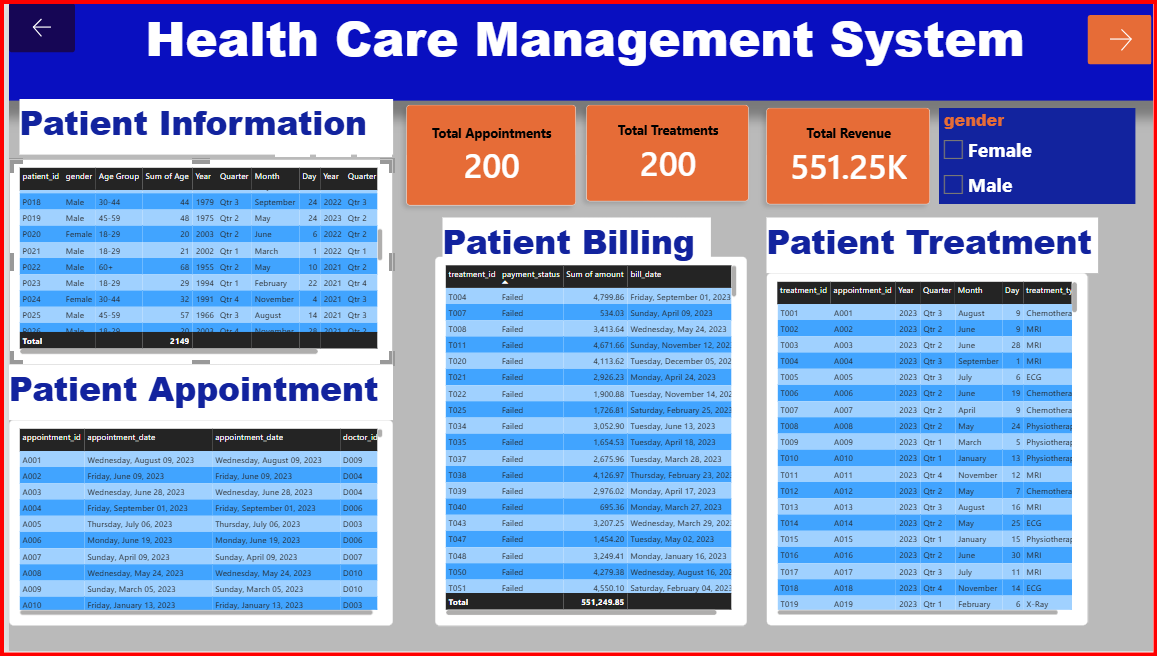

The page's visual inventory and layout, read from the dashboard file:
{"tool":"powerbi","page":{"name":"Patient Details","canvas":[1920,1080],"ordinal":4},"visuals":[{"type":"textbox","title":" Health Care Management System","box":[0,0,1920,162.5],"z":0},{"type":"actionButton","box":[0,0,110,82.5],"z":1000},{"type":"tableEx","fields":{"Values":["cleaned_patients.patient_id","cleaned_patients.gender","cleaned_patients.Age Group","Sum(cleaned_patients.Age)","cleaned_patients.date_of_birth.Variation.Date Hierarchy.Year","cleaned_patients.date_of_birth.Variation.Date Hierarchy.Quarter","cleaned_patients.date_of_birth.Variation.Date Hierarchy.Month","cleaned_patients.date_of_birth.Variation.Date Hierarchy.Day","cleaned_patients.registration_date.Variation.Date Hierarchy.Year","cleaned_patients.registration_date.Variation.Date Hierarchy.Quarter","cleaned_patients.registration_date.Variation.Date Hierarchy.Month","cleaned_patients.registration_date.Variation.Date Hierarchy.Day"]},"box":[0,260,640,342.5],"z":2000},{"type":"cardVisual","fields":{"Data":["Descriptive Analys.Total Revenue"]},"box":[1247.5,160,302.5,190],"z":3000},{"type":"cardVisual","fields":{"Data":["Descriptive Analys.Total Treatments"]},"box":[947.5,155,300,190],"z":4000},{"type":"cardVisual","fields":{"Data":["Descriptive Analys.Total Appointments"]},"box":[647.5,155,312.5,197.5],"z":5000},{"type":"tableEx","fields":{"Values":["cleaned_appointments.appointment_id","cleaned_appointments.appointment_date","cleaned_appointments.appointment_date","cleaned_appointments.doctor_id"]},"box":[0,695,640,342.5],"z":6000},{"type":"tableEx","fields":{"Values":["cleaned_treatments.treatment_id","cleaned_treatments.appointment_id","cleaned_treatments.treatment_date.Variation.Date Hierarchy.Year","cleaned_treatments.treatment_date.Variation.Date Hierarchy.Quarter","cleaned_treatments.treatment_date.Variation.Date Hierarchy.Month","cleaned_treatments.treatment_date.Variation.Date Hierarchy.Day","cleaned_treatments.treatment_type"]},"box":[1262.5,450,535,587.5],"z":7000},{"type":"tableEx","fields":{"Values":["cleaned_billing.treatment_id","cleaned_billing.payment_status","Sum(cleaned_billing.amount)","cleaned_billing.bill_date"]},"box":[710,422.5,520,615],"z":8000},{"type":"shape","title":"Patient Information","box":[17.5,160,622.5,92.5],"z":9000},{"type":"shape","title":"Patient Billing History","box":[722.5,357.5,447.5,75],"z":10000},{"type":"shape","title":"Patient Treatment History","box":[1262.5,357.5,552.5,92.5],"z":11000},{"type":"shape","title":"Patient Appointment History","box":[0,602.5,640,92.5],"z":12000},{"type":"actionButton","box":[1797.5,20,110,82.5],"z":13000},{"type":"slicer","fields":{"Values":["cleaned_patients.gender"]},"box":[1550,175,327.5,160],"z":14000}]}

Visuals, with their boxes in screenshot pixels (x1, y1, x2, y2), scaled from the page's 1920x1080 canvas onto the 1157x656 screenshot:
" Health Care Management System" textbox: select_region(0, 0, 1156, 99)
actionButton: select_region(0, 0, 66, 50)
tableEx - cleaned_patients.patient_id x cleaned_patients.gender: select_region(0, 158, 386, 366)
cardVisual - Descriptive Analys.Total Revenue: select_region(752, 97, 934, 213)
cardVisual - Descriptive Analys.Total Treatments: select_region(571, 94, 752, 210)
cardVisual - Descriptive Analys.Total Appointments: select_region(390, 94, 578, 214)
tableEx - cleaned_appointments.appointment_id x cleaned_appointments.appointment_date: select_region(0, 422, 386, 630)
tableEx - cleaned_treatments.treatment_id x cleaned_treatments.appointment_id: select_region(761, 273, 1083, 630)
tableEx - cleaned_billing.treatment_id x cleaned_billing.payment_status: select_region(428, 257, 741, 630)
"Patient Information" shape: select_region(11, 97, 386, 153)
"Patient Billing History" shape: select_region(435, 217, 705, 263)
"Patient Treatment History" shape: select_region(761, 217, 1094, 273)
"Patient Appointment History" shape: select_region(0, 366, 386, 422)
actionButton: select_region(1083, 12, 1149, 62)
slicer - cleaned_patients.gender: select_region(934, 106, 1131, 203)
